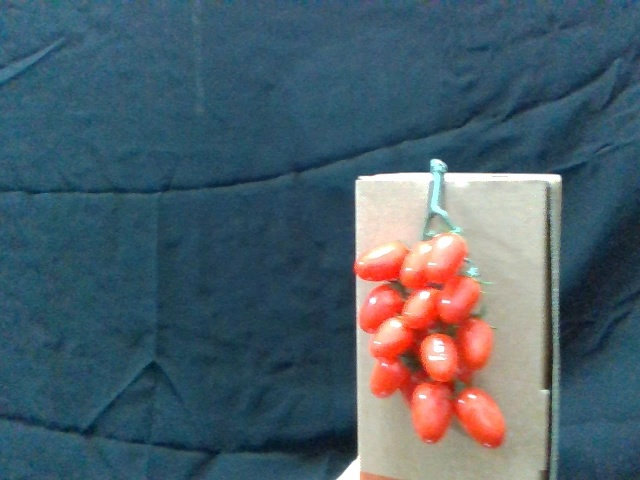tomato: (455, 388, 506, 451), (411, 382, 456, 444), (353, 241, 410, 283), (419, 329, 460, 386), (358, 285, 405, 333), (437, 278, 484, 325), (426, 234, 470, 284), (404, 287, 448, 333), (374, 317, 418, 363), (462, 322, 497, 377), (367, 358, 411, 400)
